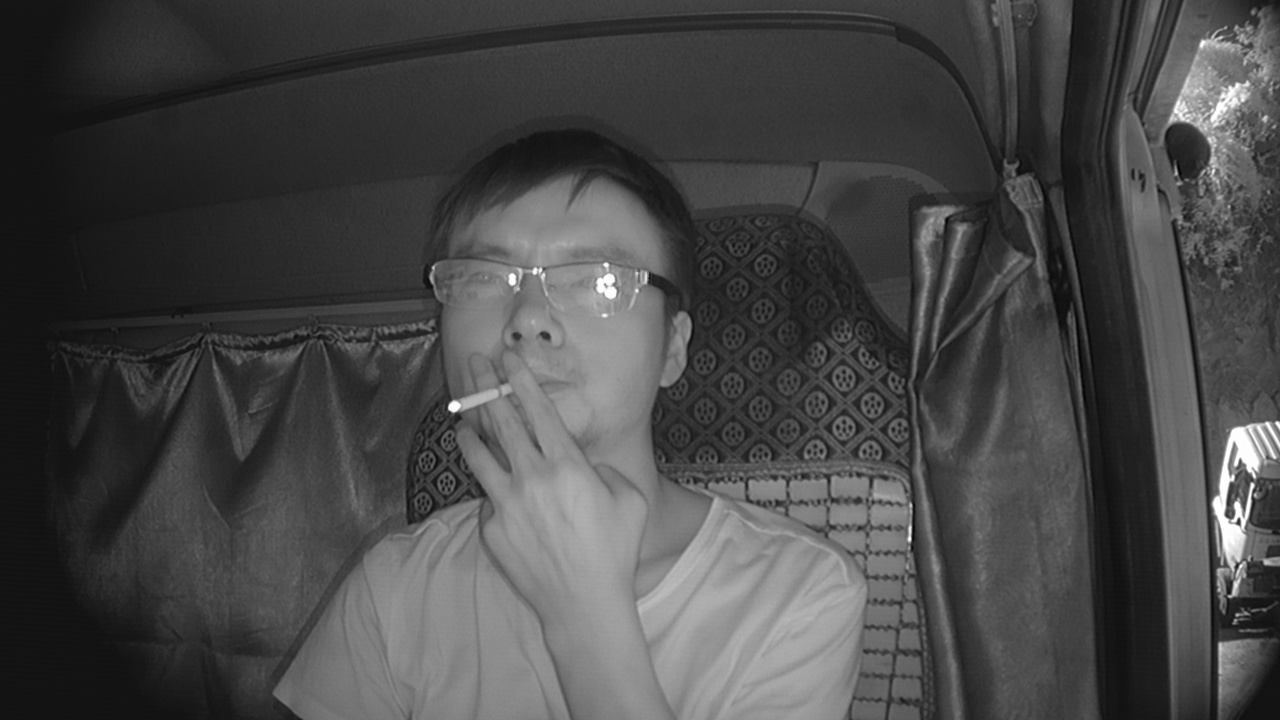hand: (446, 351, 636, 570)
